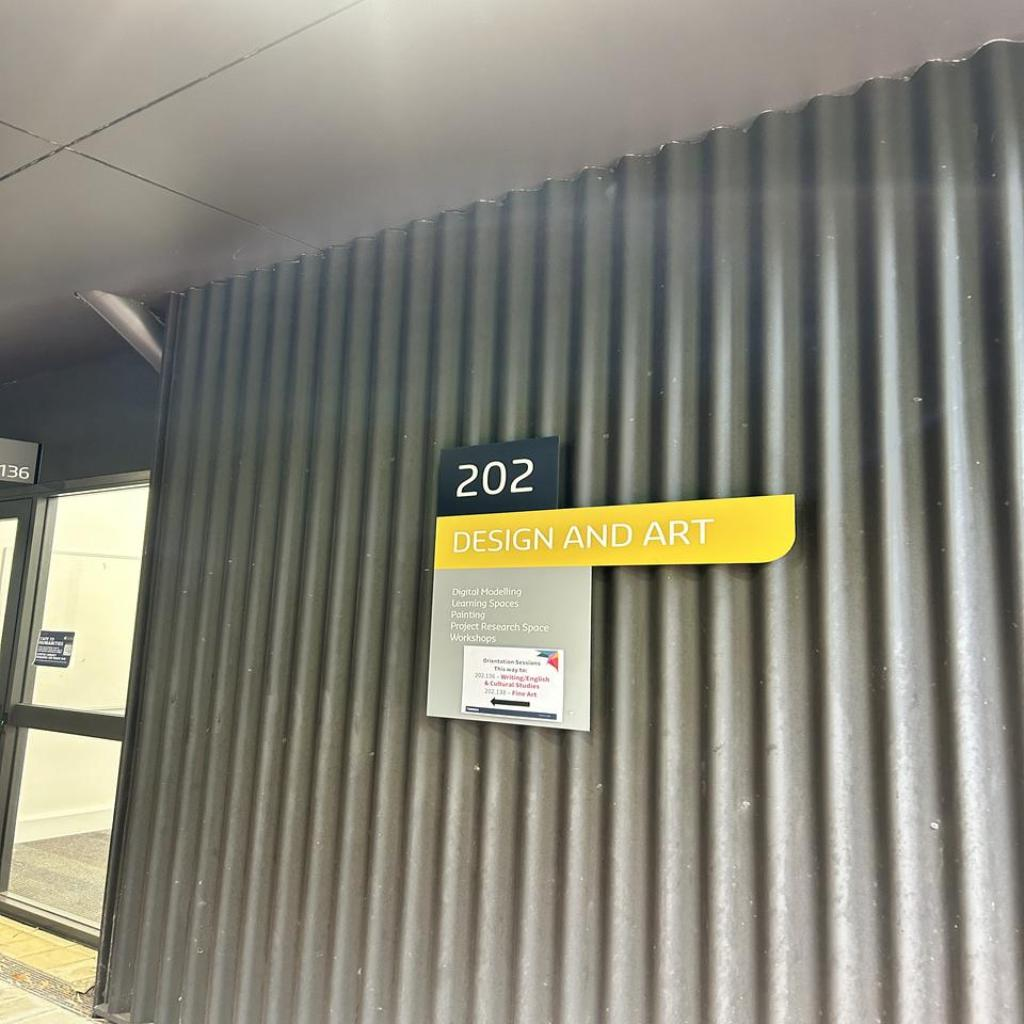BuildingCodes: (454, 456, 536, 498)
